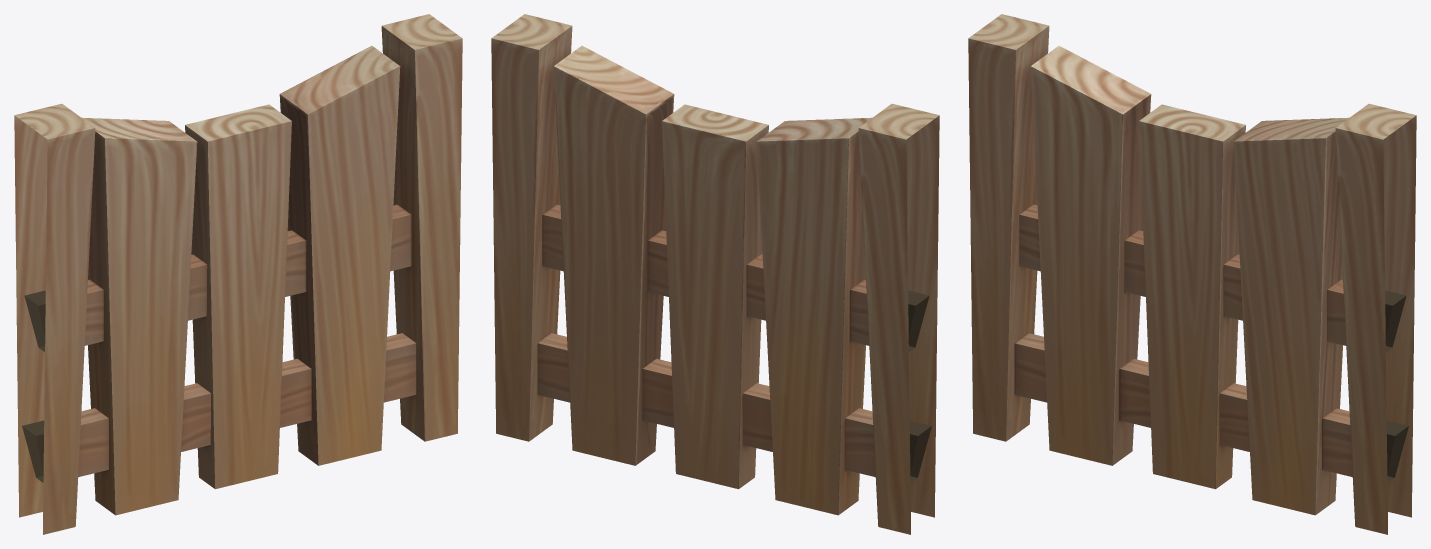
The model's file is fence2_middle.obj.
The picture shows the model from 3 angles, left to right: view 1: azimuth 30°, elevation 25°; view 2: azimuth 150°, elevation 25°; view 3: azimuth 330°, elevation 25°; orthographic projection.
Visible parts, largest first — view 1: fence2_middle; view 2: fence2_middle; view 3: fence2_middle.
Part boxes in pixels (left/top/right/bottom): fence2_middle: left=14, top=14, right=462, bottom=534; fence2_middle: left=491, top=14, right=939, bottom=534; fence2_middle: left=968, top=14, right=1416, bottom=534.
Size of the model in its own units: 50.49 by 45.92 by 6.96.
